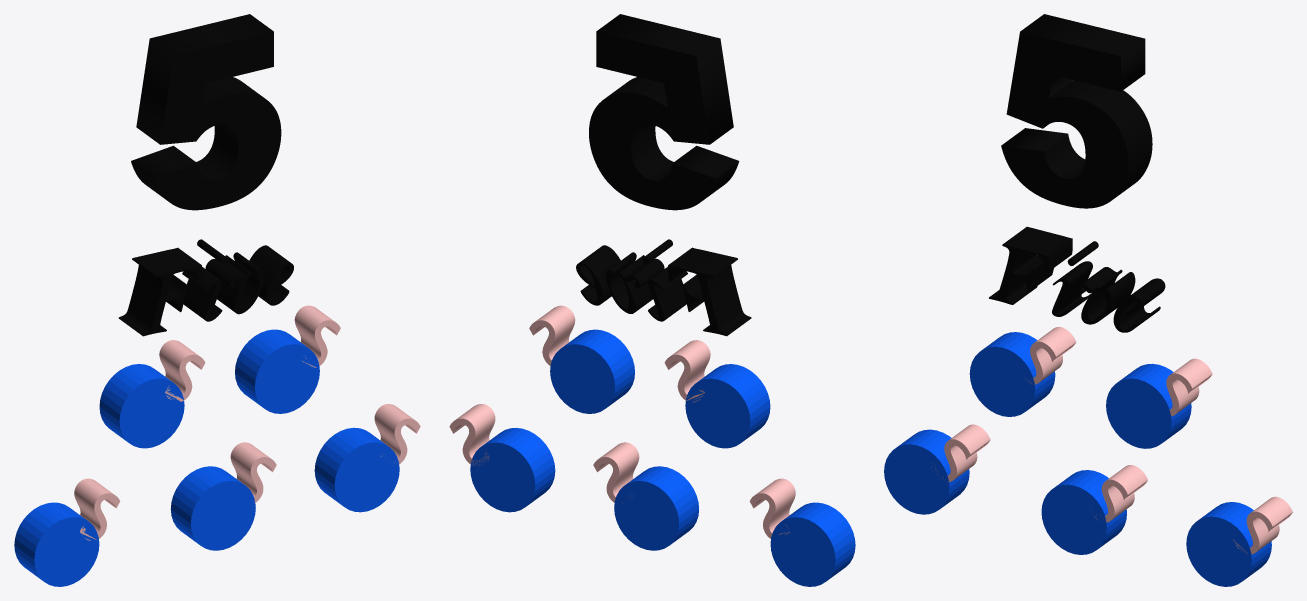
The model's file is Number_5.glb.
3 views of the same model, side by side, from view 1: azimuth 30°, elevation 25°; view 2: azimuth 150°, elevation 25°; view 3: azimuth 330°, elevation 25° (orthographic).
Parts seen in each view (by area): view 1: Text, Text.001, Cylinder, Cylinder.004, Cylinder.003, Cylinder.002, Cylinder.001, Text.003, Text.004, Text.002, Text.006, Text.005; view 2: Text, Text.001, Cylinder.002, Cylinder.004, Cylinder, Cylinder.003, Cylinder.001, Text.003, Text.005, Text.004, Text.006, Text.002; view 3: Text, Text.001, Cylinder.002, Cylinder, Cylinder.003, Cylinder.001, Cylinder.004, Text.005, Text.004, Text.003, Text.002, Text.006.
Part boxes in pixels (<box>): Text: <box>131,14,281,210</box>; Text.001: <box>118,239,293,336</box>; Cylinder: <box>235,329,319,413</box>; Cylinder.004: <box>170,466,255,550</box>; Cylinder.003: <box>314,427,399,512</box>; Cylinder.002: <box>14,502,99,586</box>; Cylinder.001: <box>99,364,184,448</box>; Text.003: <box>159,340,205,401</box>; Text.004: <box>74,478,120,540</box>; Text.002: <box>294,305,340,367</box>; Text.006: <box>230,442,276,502</box>; Text.005: <box>374,404,420,464</box>; Text: <box>589,14,739,210</box>; Text.001: <box>576,239,751,336</box>; Cylinder.002: <box>770,502,855,586</box>; Cylinder.004: <box>614,466,698,550</box>; Cylinder: <box>550,329,634,413</box>; Cylinder.003: <box>470,428,555,512</box>; Cylinder.001: <box>685,364,770,448</box>; Text.003: <box>664,340,710,402</box>; Text.005: <box>449,404,495,465</box>; Text.004: <box>749,478,795,538</box>; Text.006: <box>593,442,639,503</box>; Text.002: <box>529,305,575,365</box>; Text: <box>1001,14,1152,208</box>; Text.001: <box>989,226,1165,332</box>; Cylinder.002: <box>884,429,969,514</box>; Cylinder: <box>1106,363,1191,448</box>; Cylinder.003: <box>1186,502,1271,586</box>; Cylinder.001: <box>969,332,1055,416</box>; Cylinder.004: <box>1041,470,1126,554</box>; Text.005: <box>1233,496,1292,554</box>; Text.004: <box>931,424,990,482</box>; Text.003: <box>1024,327,1076,384</box>; Text.002: <box>1166,358,1212,416</box>; Text.006: <box>1095,465,1147,522</box>.
Size of the model in its own units: 1.11 by 1.4 by 0.12.
